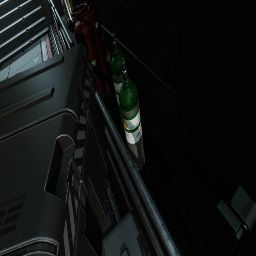0: (119, 58, 145, 171), (111, 31, 127, 132)
NitrogenTank ,: (71, 3, 110, 114), (80, 0, 113, 96)
